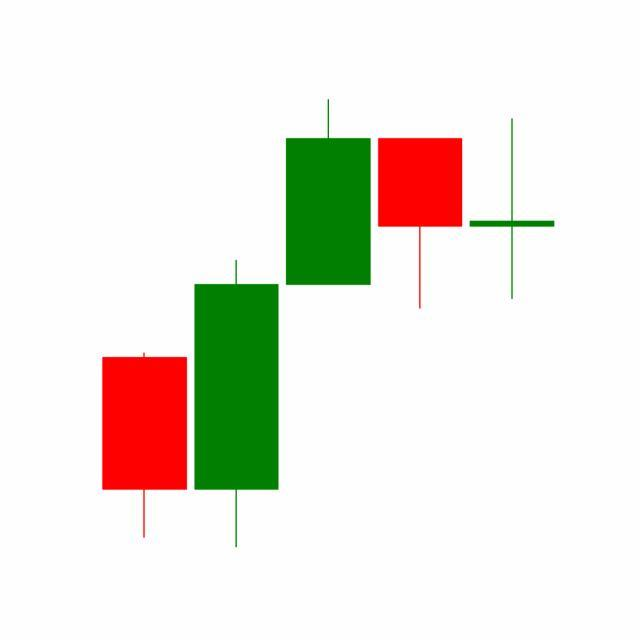Spinning Top: (466, 117, 559, 302)
